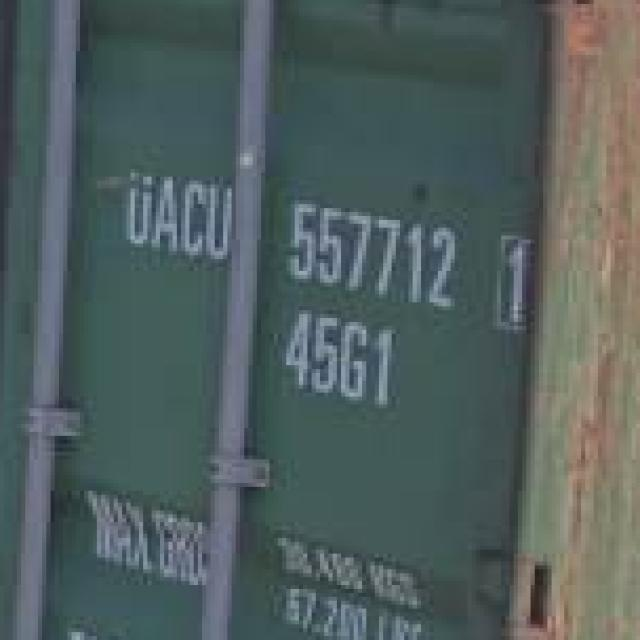dv: (486, 220, 559, 340)
owner: (109, 157, 242, 269)
serial: (266, 190, 466, 308)
size: (268, 304, 408, 425)
